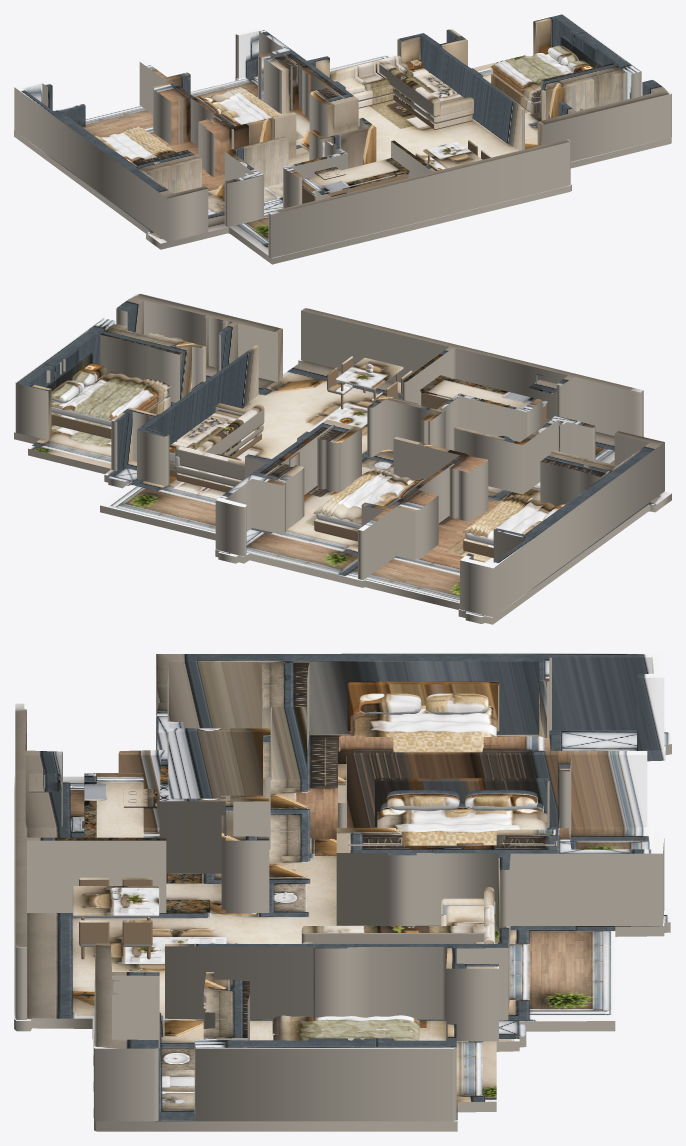
File: p6-04-u01-0112-image-model.glb
3 views of the same model, one above another, from view 1: azimuth 30°, elevation 25°; view 2: azimuth 150°, elevation 25°; view 3: azimuth 270°, elevation 25° (orthographic). The views are drawn at different scales.
Parts seen in each view (by area): view 1: Partition walls, Apartment floor, Stone worktop, Sofa back, Draped bed linen, Draped bed linen.002, Draped bed linen.004, Marble dining top, Sofa back.001, Kitchen cabinets, Draped bed linen.001, Walnut upholstered base (+8 smaller); view 2: Partition walls, Apartment floor, Draped bed linen, Draped bed linen.002, Stone worktop, Draped bed linen.004, Sofa back, Sofa back.001, Marble dining top, Walnut upholstered base, Draped bed linen.003, Draped bed linen.001 (+7 smaller); view 3: Partition walls, Apartment floor, Draped bed linen.002, Draped bed linen.004, Stone worktop, Sofa back, Upholstered headboard.001, Upholstered headboard.002, Marble dining top, Draped bed linen.001, Draped bed linen, Tailored pillow.002 (+7 smaller).
Part boxes in pixels (<box>): Partition walls: <box>14,14,671,258</box>; Apartment floor: <box>14,53,671,264</box>; Stone worktop: <box>302,158,409,195</box>; Sofa back: <box>379,60,440,116</box>; Draped bed linen: <box>490,53,571,97</box>; Draped bed linen.002: <box>204,88,280,124</box>; Draped bed linen.004: <box>101,128,175,161</box>; Marble dining top: <box>423,141,482,168</box>; Sofa back.001: <box>329,55,401,81</box>; Kitchen cabinets: <box>302,173,408,203</box>; Draped bed linen.001: <box>496,58,542,95</box>; Walnut upholstered base: <box>491,74,540,114</box>; Partition walls: <box>15,293,664,617</box>; Apartment floor: <box>14,358,671,624</box>; Draped bed linen: <box>62,371,171,420</box>; Draped bed linen.002: <box>313,469,414,522</box>; Stone worktop: <box>420,375,547,408</box>; Draped bed linen.004: <box>462,494,558,539</box>; Sofa back: <box>196,404,264,454</box>; Sofa back.001: <box>175,445,244,480</box>; Marble dining top: <box>335,357,403,390</box>; Walnut upholstered base: <box>51,395,170,438</box>; Draped bed linen.003: <box>318,469,391,516</box>; Draped bed linen.001: <box>98,378,165,419</box>; Partition walls: <box>15,653,664,1121</box>; Apartment floor: <box>14,726,671,1131</box>; Draped bed linen.002: <box>377,809,547,845</box>; Draped bed linen.004: <box>350,713,496,752</box>; Stone worktop: <box>84,773,143,837</box>; Sofa back: <box>301,926,485,943</box>; Upholstered headboard.001: <box>375,778,549,828</box>; Upholstered headboard.002: <box>347,681,499,732</box>; Marble dining top: <box>72,886,159,916</box>; Draped bed linen.001: <box>272,1015,419,1036</box>; Draped bed linen: <box>273,1015,419,1040</box>; Tailored pillow.002: <box>386,790,459,810</box>.
Bounding box in the file's own units: 13.49 × 1.3 × 9.37.
13 materials, 3 textured.
